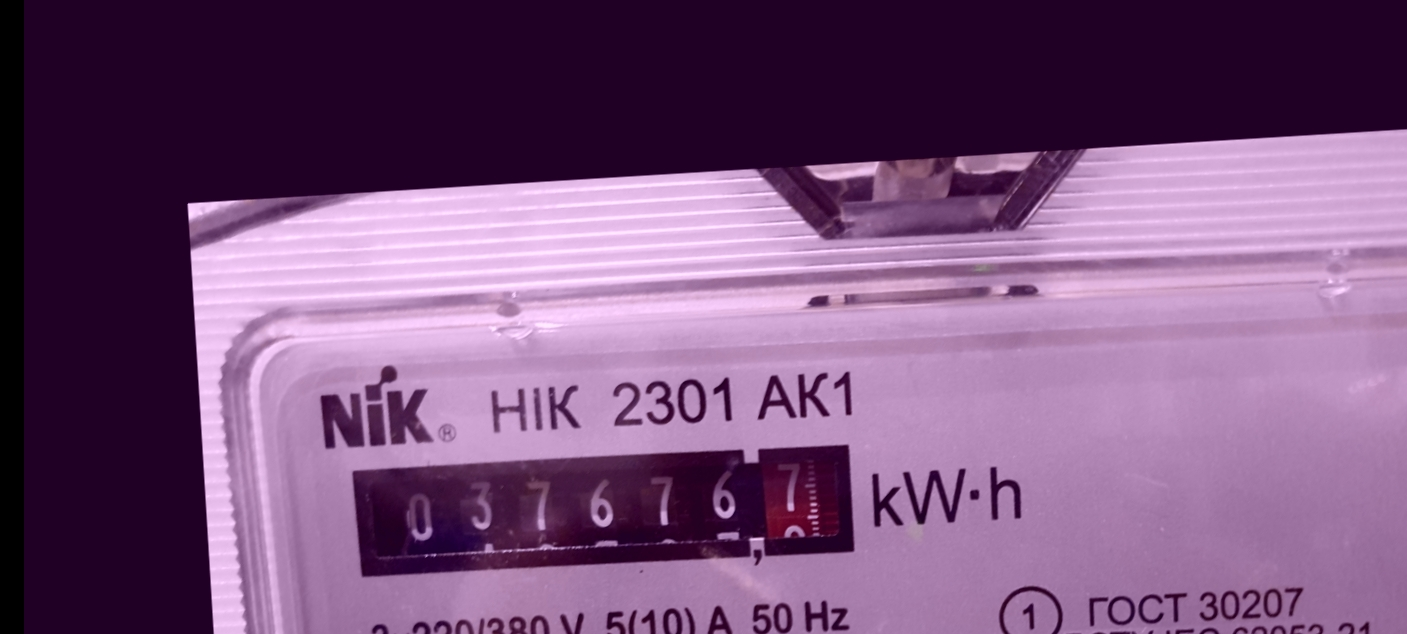0: (403, 487, 440, 544)
3: (466, 475, 497, 533)
6: (585, 473, 620, 529), (708, 465, 741, 522)
7: (647, 471, 681, 531), (524, 475, 558, 533), (776, 457, 807, 515)
screen: (337, 422, 874, 600)
